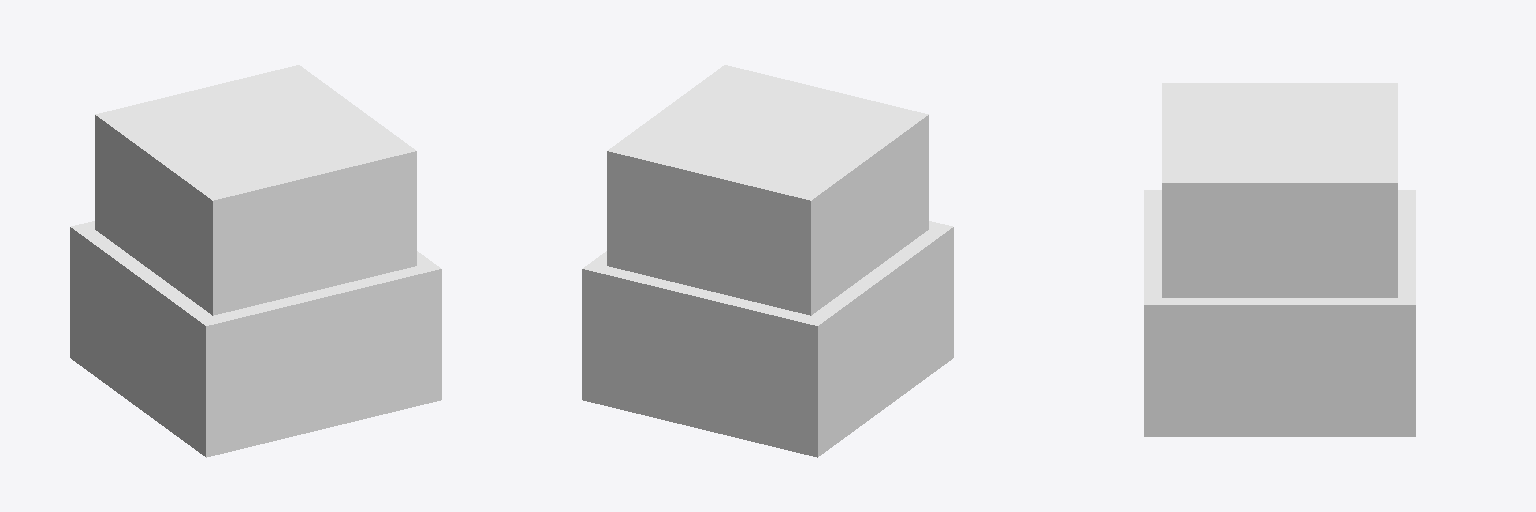
The model's file is neckBottom.obj.
The picture shows the model from 3 angles: view 1: azimuth 30°, elevation 25°; view 2: azimuth 150°, elevation 25°; view 3: azimuth 270°, elevation 25°; orthographic projection.
Visible parts, largest first — view 1: object 1; view 2: object 1; view 3: object 1.
Boxes of the visible parts, x1,y1,x2,y2 form: object 1: [70, 65, 441, 457]; object 1: [582, 65, 953, 457]; object 1: [1144, 83, 1415, 436].
Size of the model in its own units: 3 by 3 by 3.